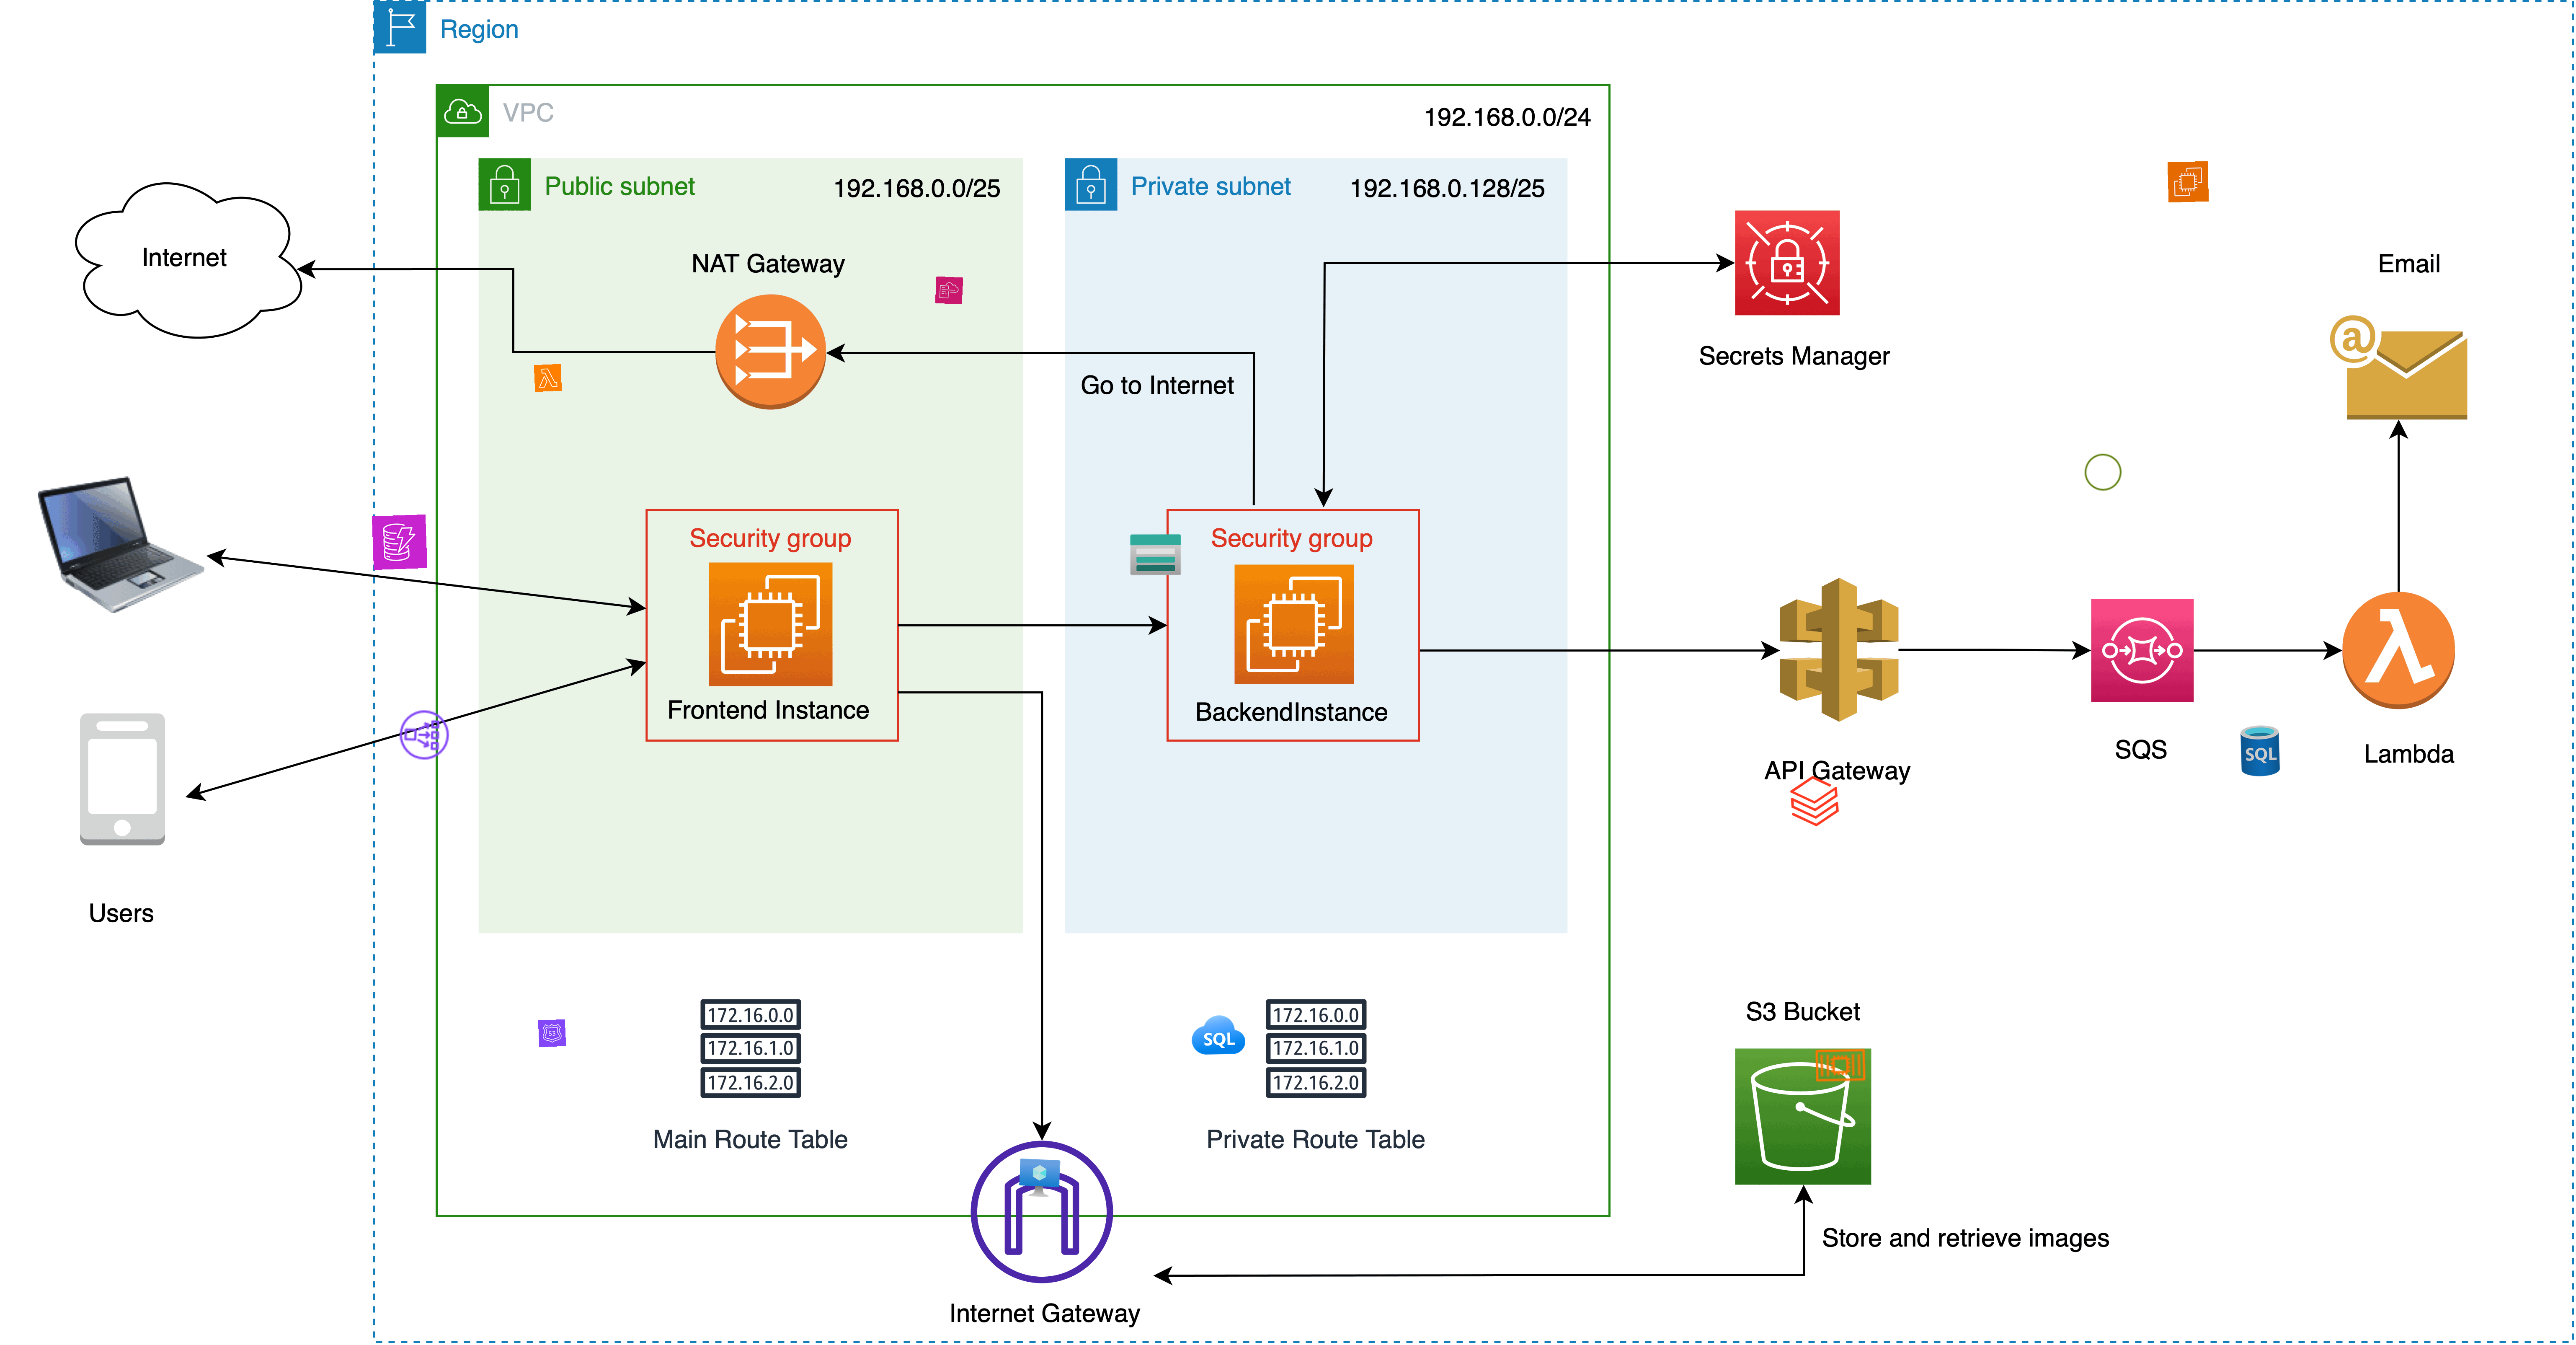aws_amazon_dynamodb: (371, 515, 428, 571)
aws_amazon_ec2: (2167, 160, 2210, 203)
aws_amazon_route_53: (538, 1019, 566, 1047)
aws_cloudformation: (935, 276, 963, 305)
aws_elastic_container_service_container_2: (1813, 1038, 1869, 1093)
aws_elastic_load_balancing_network_load_balancer: (397, 707, 451, 762)
aws_lambda: (533, 363, 562, 392)
aws_simple_storage_service_object: (2082, 452, 2123, 493)
azure_databricks: (1785, 772, 1843, 830)
azure_sql: (1191, 1007, 1245, 1064)
azure_sql_database: (2232, 723, 2288, 779)
azure_storage_accounts: (1128, 527, 1182, 581)
azure_virtual_machine: (1019, 1157, 1061, 1200)
